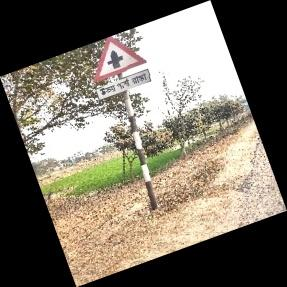Crossroad: (92, 37, 151, 102)
